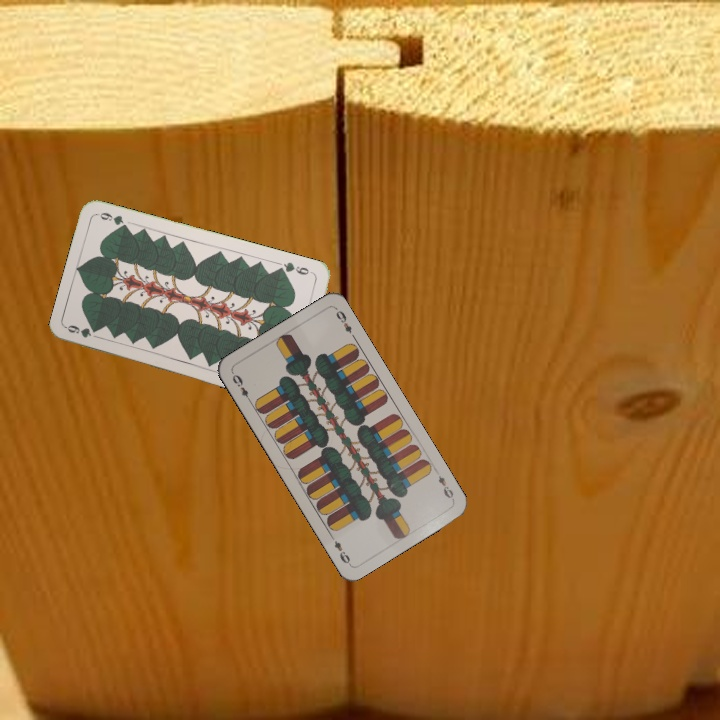E9: (228, 369, 254, 406), (431, 466, 457, 503)
G9: (275, 258, 316, 277), (63, 321, 98, 340)
